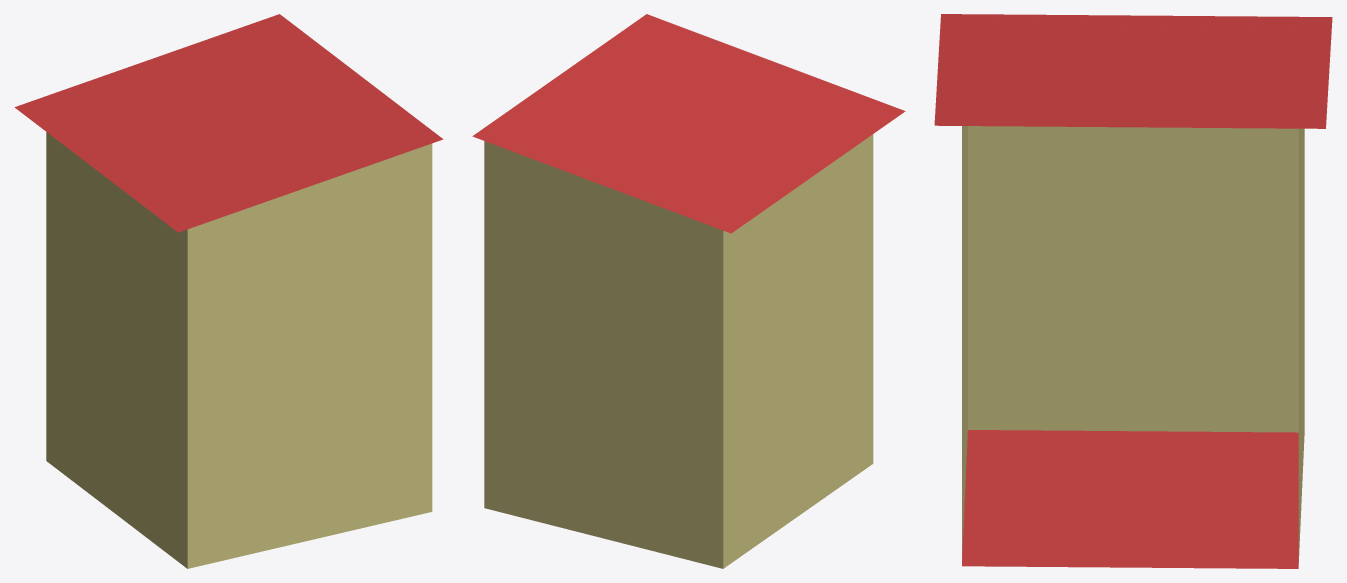
3 renders of one model, left to right at view 1: azimuth 30°, elevation 25°; view 2: azimuth 150°, elevation 25°; view 3: azimuth 270°, elevation 25°, orthographic. The views are drawn at different scales.
Bounding box in the file's own units: 6.53 × 7.27 × 8.87.
